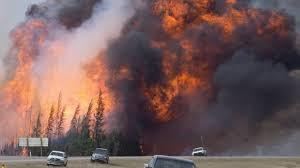fire: (0, 22, 126, 136)
